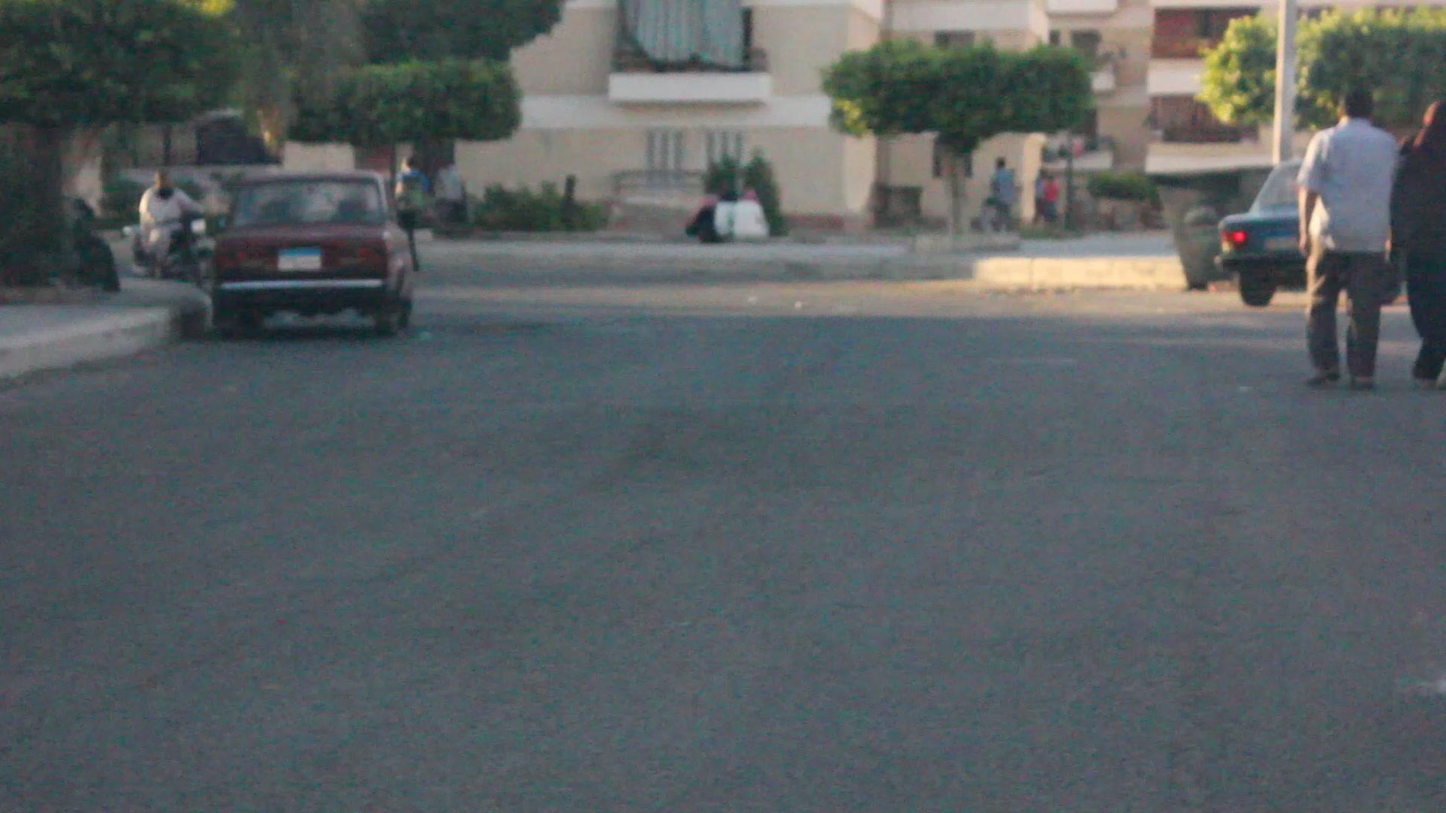Bump: (73, 365, 1446, 489)
